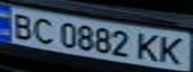0: (54, 20, 78, 50)
2: (112, 28, 133, 60)
8: (90, 25, 115, 56), (75, 23, 96, 53)
B: (6, 10, 39, 39)
C: (27, 15, 57, 45)
K: (154, 34, 190, 66), (133, 30, 163, 64)
